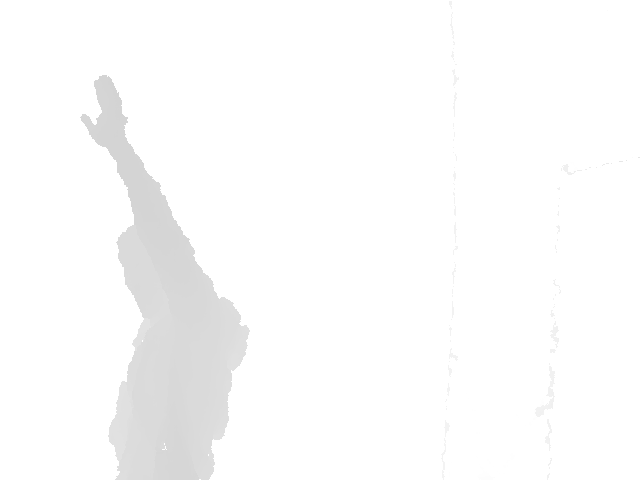hand: (78, 74, 135, 148)
head: (116, 224, 177, 320)
person: (79, 74, 252, 479)
